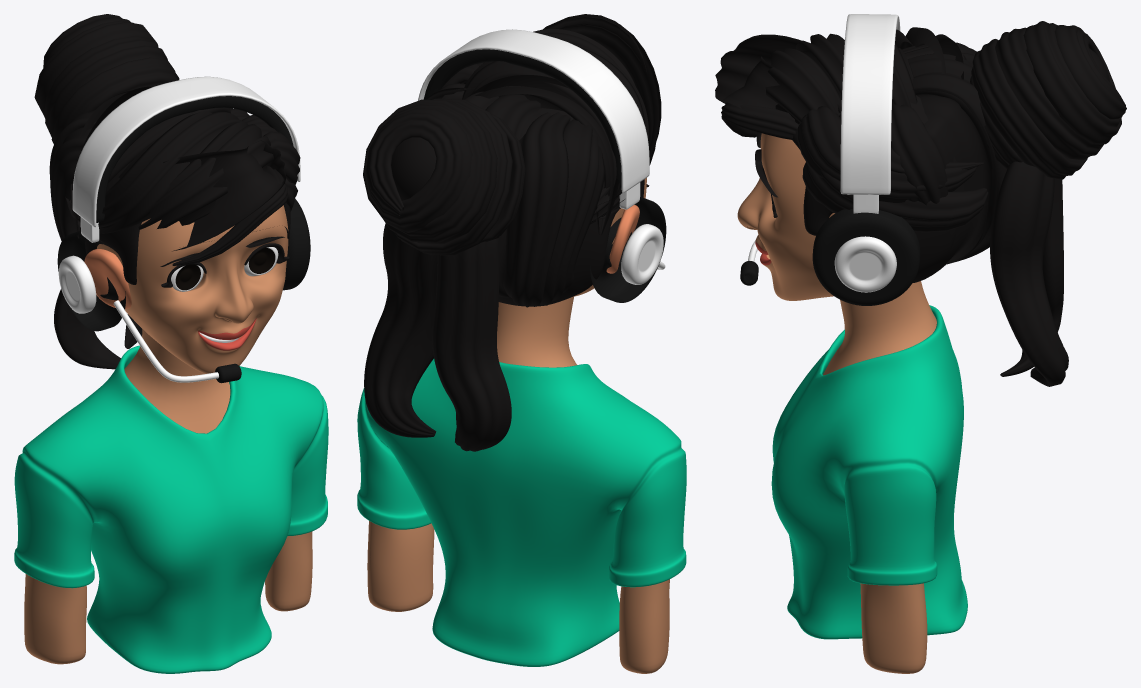
Rendered from female-guest-3d-animated-icon-1486615197121.glb.
3 views of the same model, side by side, from view 1: azimuth 30°, elevation 25°; view 2: azimuth 150°, elevation 25°; view 3: azimuth 270°, elevation 25° (orthographic). The views are drawn at different scales.
Parts seen in each view (by area): view 1: Tshirt, Hair, Face, Headphone, Body, Eyes, Mic; view 2: Hair, Tshirt, Headphone, Body, Face; view 3: Hair, Tshirt, Headphone, Body, Face.
Part boxes in pixels (x1=…): Tshirt: x1=14, y1=345, x2=328, y2=673; Hair: x1=34, y1=14, x2=300, y2=369; Face: x1=84, y1=205, x2=288, y2=373; Headphone: x1=57, y1=76, x2=310, y2=331; Body: x1=24, y1=329, x2=312, y2=664; Eyes: x1=161, y1=243, x2=289, y2=291; Mic: x1=113, y1=300, x2=241, y2=383; Hair: x1=363, y1=14, x2=661, y2=451; Tshirt: x1=357, y1=359, x2=686, y2=666; Headphone: x1=418, y1=29, x2=666, y2=302; Body: x1=367, y1=296, x2=669, y2=673; Face: x1=573, y1=178, x2=646, y2=296; Hair: x1=715, y1=21, x2=1126, y2=386; Tshirt: x1=771, y1=305, x2=967, y2=639; Headphone: x1=812, y1=14, x2=920, y2=305; Body: x1=823, y1=281, x2=936, y2=673; Face: x1=737, y1=133, x2=834, y2=300.
Size of the model in its own units: 3.19 by 5.69 by 3.61.
